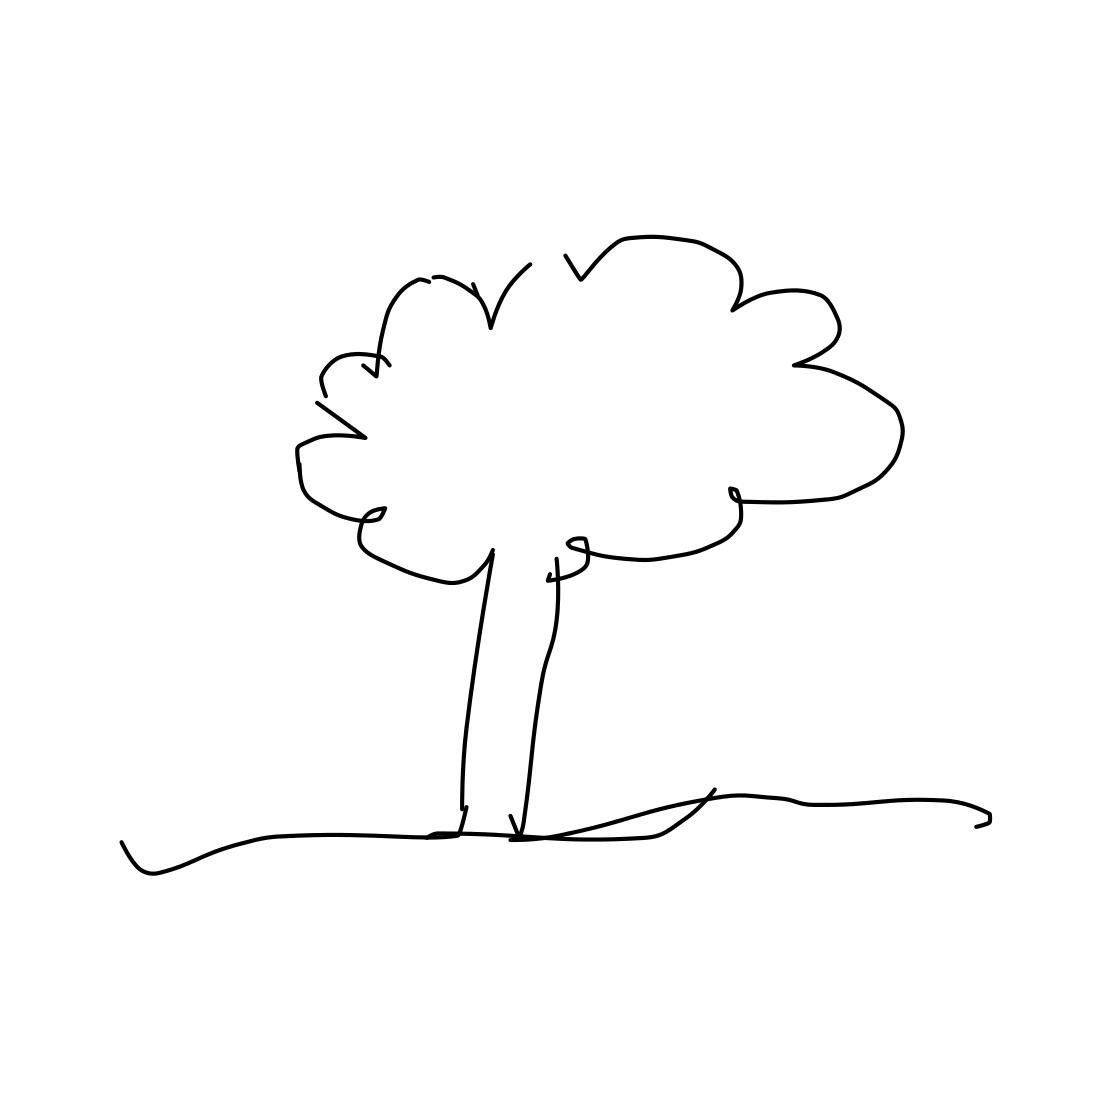Tree: (270, 184, 907, 874)
